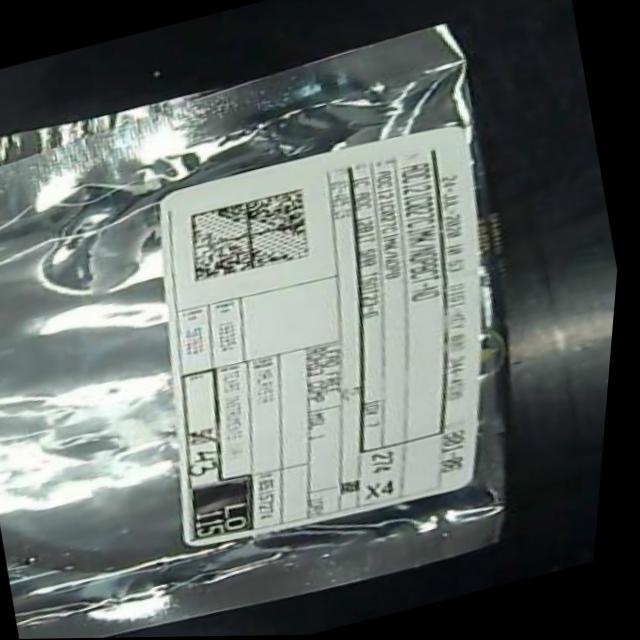datamatrix: (178, 186, 327, 289)
